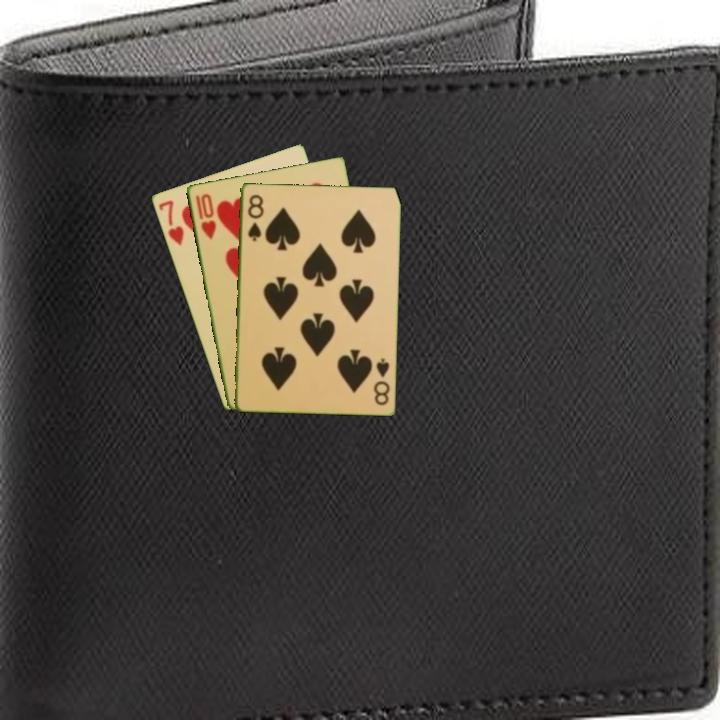10h: (192, 190, 219, 242)
7h: (154, 196, 186, 249)
8s: (370, 355, 392, 408), (244, 191, 265, 243)
